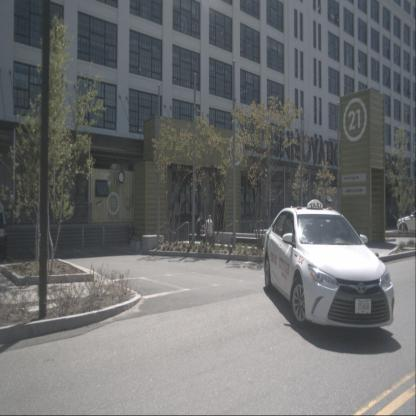human-pedestrian-adult: (196, 213, 206, 246), (204, 215, 214, 246)
vehicle-car: (263, 206, 395, 329), (396, 209, 416, 233), (0, 210, 8, 259)
